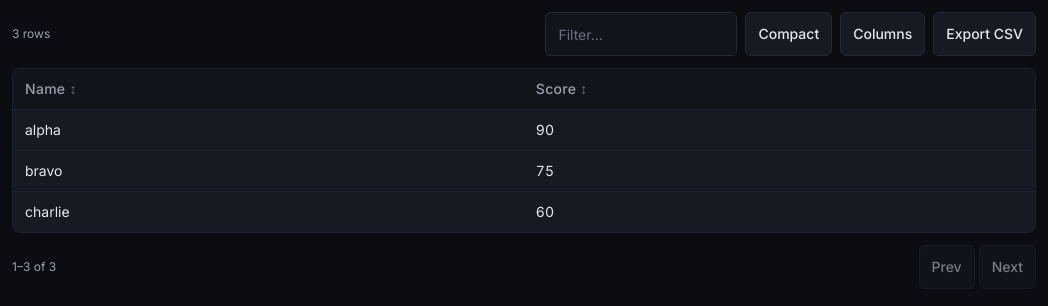
Test: <DataTable> › filters rows via the global filter
The width and height of the screenshot is (1048, 306).
Type "alpha" into the search field named "Filter rows" at (641, 34), box left=545, top=12, right=737, bottom=56
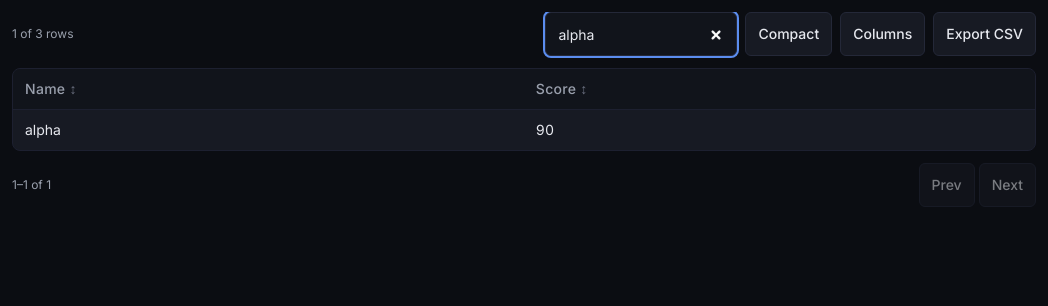
Check: the text "alpha" is shown, box left=13, top=110, right=524, bottom=150
Check: the text "bravo" is gone
